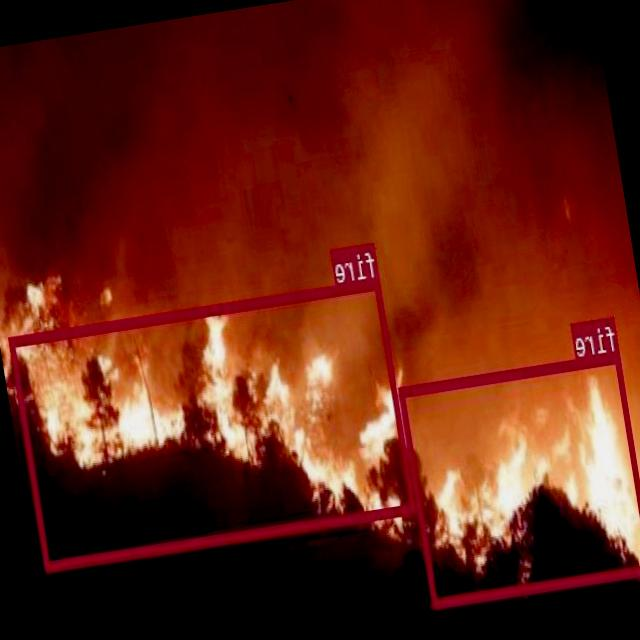fire: (9, 276, 417, 570), (399, 352, 640, 605)
